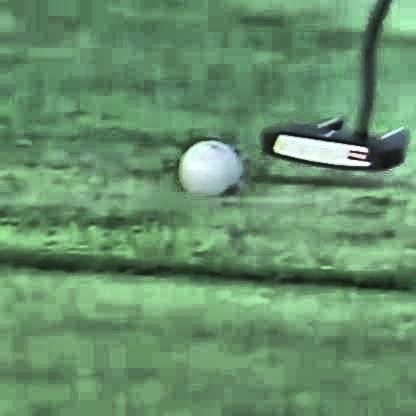golfball: (175, 140, 238, 197)
